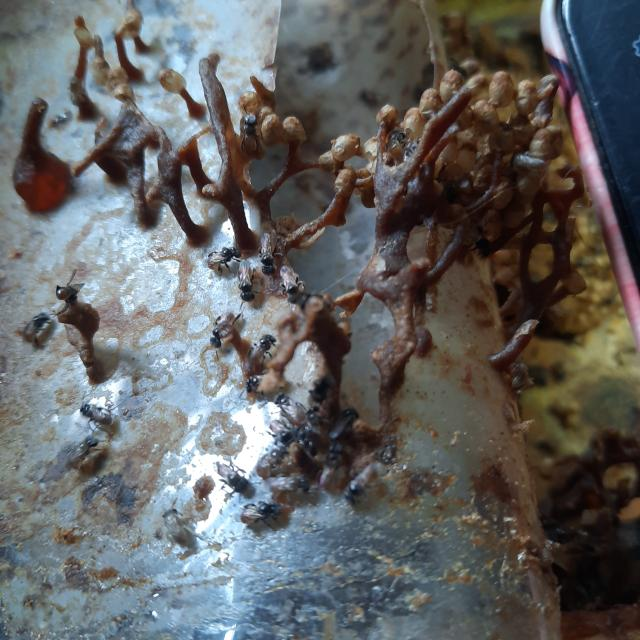honeybee: (234, 502, 286, 537), (213, 457, 257, 497), (80, 395, 118, 440), (203, 306, 239, 352), (49, 266, 86, 310), (340, 465, 380, 505), (237, 106, 266, 158), (15, 309, 50, 352), (202, 241, 240, 280), (278, 386, 312, 424), (246, 331, 282, 365), (262, 417, 295, 448)
